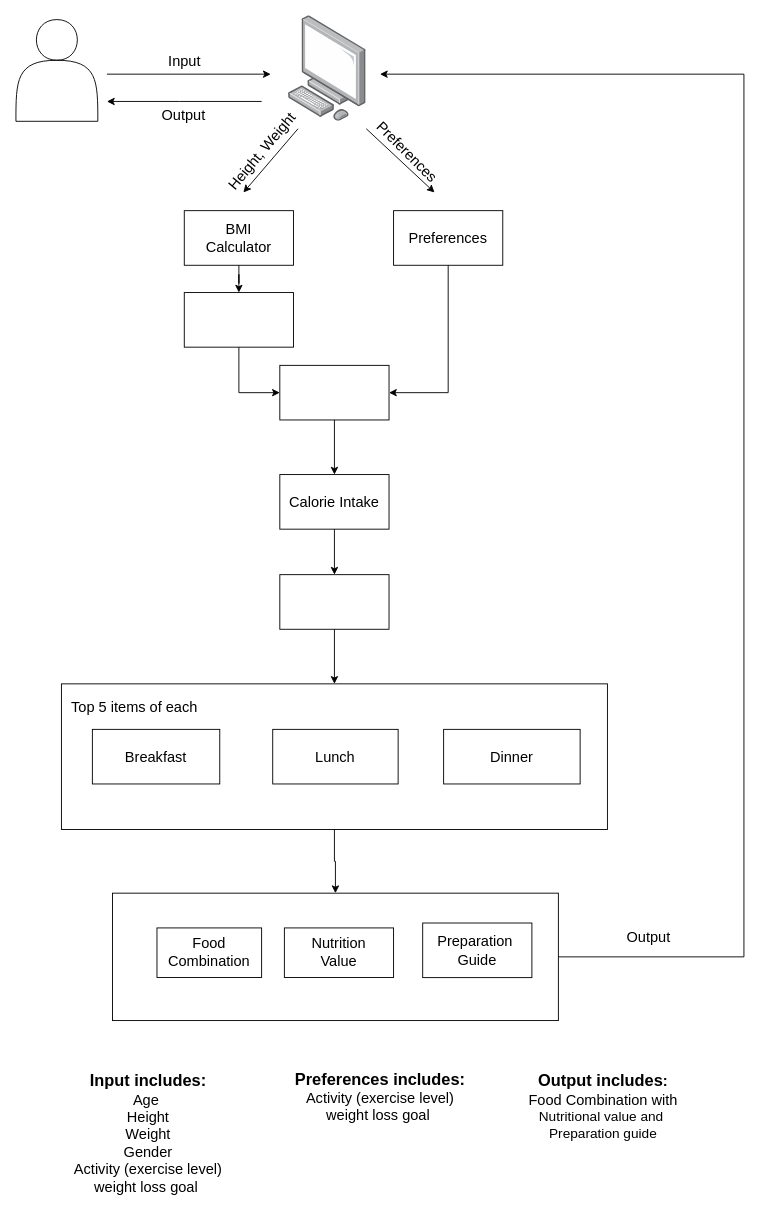
Some shapes in this 767 by 1218 pixel diagram are drawn without their labels. Here are the shapes that lost their labels. From the top down, the centre of each, then its label:
At pixel 238 319: "BMR Calculator".
At pixel 334 392: "BMR and Preferences Balance".
At pixel 334 601: "Prediction".
